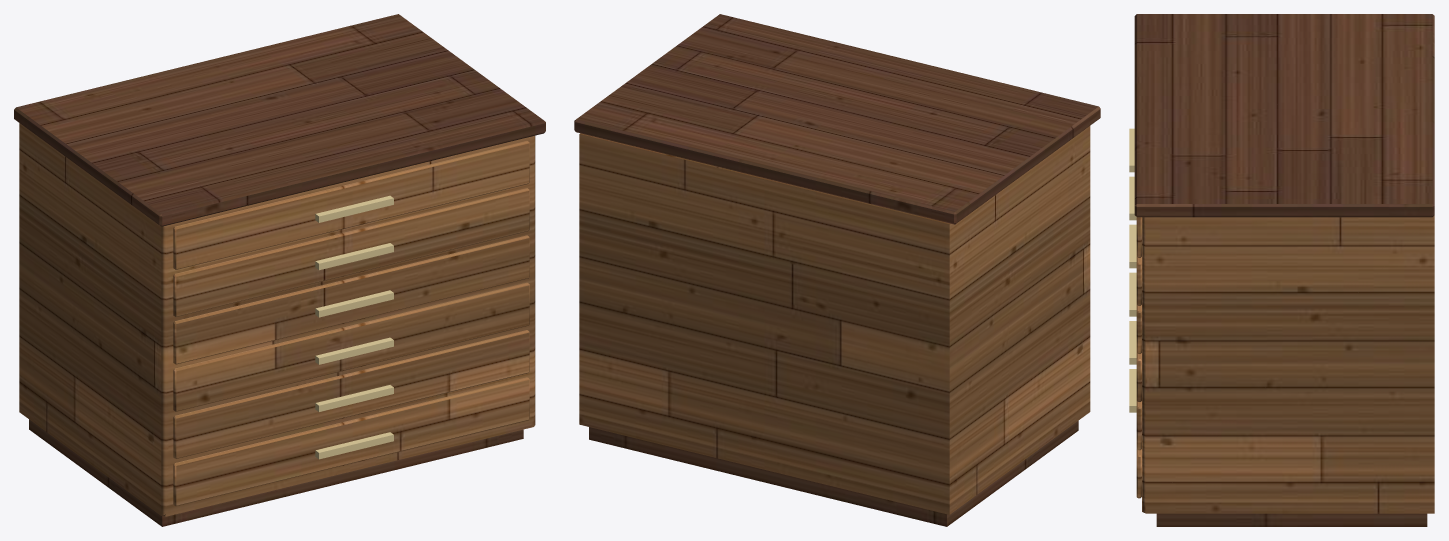
Rendered from flat_file.glb.
3 renders of one model, left to right at view 1: azimuth 30°, elevation 25°; view 2: azimuth 150°, elevation 25°; view 3: azimuth 270°, elevation 25°, orthographic. The views are drawn at different scales.
Visible parts, largest first — view 1: flat_file_oak, flat_file_dkwood, flat_file_brass; view 2: flat_file_oak, flat_file_dkwood; view 3: flat_file_oak, flat_file_dkwood, flat_file_brass.
Boxes of the visible parts, box(x1,y1,x2,y2) form: flat_file_oak: box(19, 123, 535, 516); flat_file_dkwood: box(14, 14, 545, 526); flat_file_brass: box(315, 195, 393, 459); flat_file_oak: box(579, 126, 1090, 514); flat_file_dkwood: box(574, 14, 1100, 526); flat_file_oak: box(1136, 215, 1434, 513); flat_file_dkwood: box(1134, 14, 1434, 526); flat_file_brass: box(1129, 128, 1136, 412).
Bounding box in the file's own units: 1.24 × 0.99 × 0.835.
3 materials, 2 textured.
